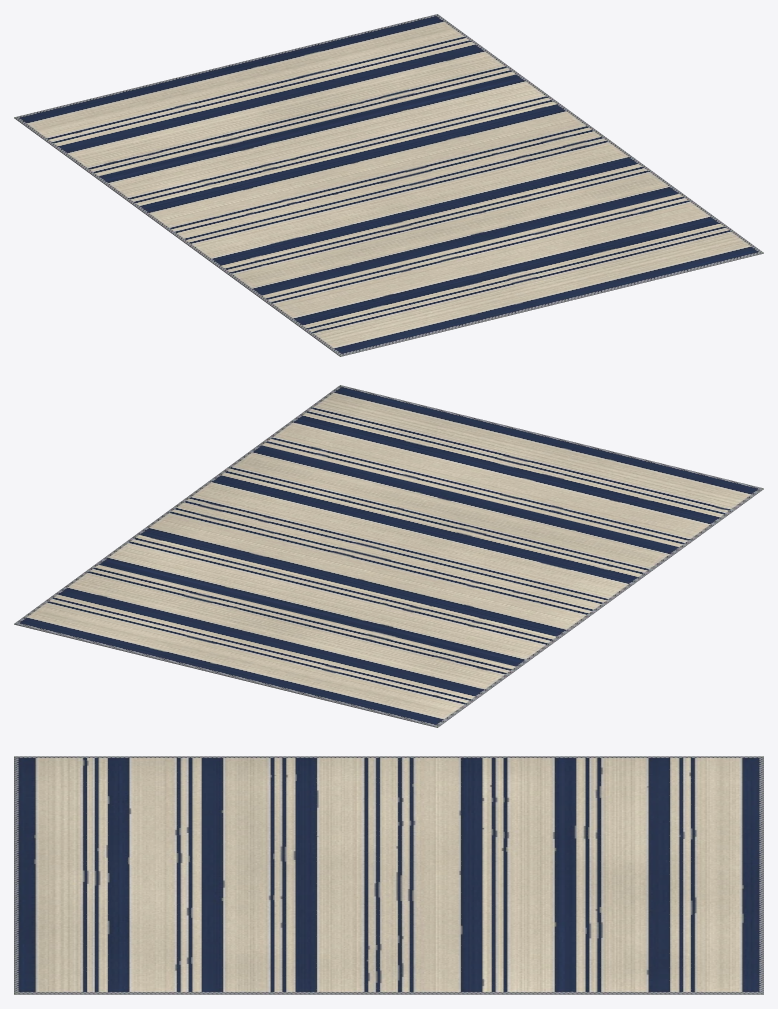
File: rug-farmhouse-stripe.lite.51b2461b.glb
3 renders of one model, top to bottom at view 1: azimuth 30°, elevation 25°; view 2: azimuth 150°, elevation 25°; view 3: azimuth 270°, elevation 25°, orthographic. The views are drawn at different scales.
Parts seen in each view (by area): view 1: rug-farmhouse-stripe; view 2: rug-farmhouse-stripe; view 3: rug-farmhouse-stripe.
Part boxes in pixels (box(x1,y1,x2,y2)): rug-farmhouse-stripe: box(14, 14, 763, 356); rug-farmhouse-stripe: box(14, 385, 763, 727); rug-farmhouse-stripe: box(14, 756, 763, 994).
Bounding box in the file's own units: 1.8 × 0.004 × 2.4.
1 material, 1 textured.
